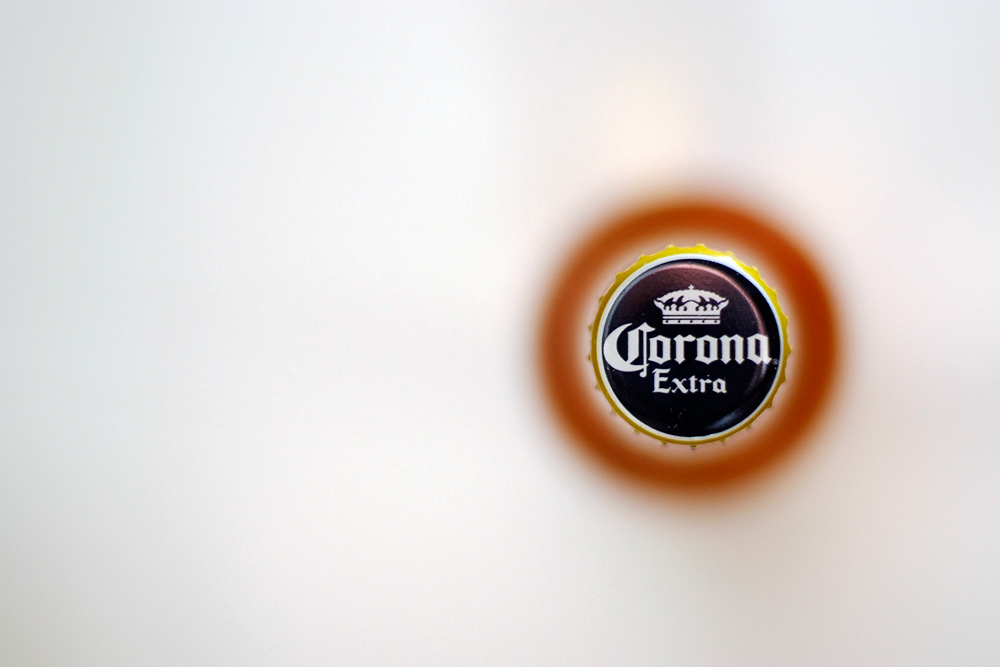corona: (587, 243, 792, 452)
